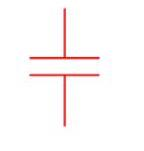Capacitor: (20, 38, 107, 89)
